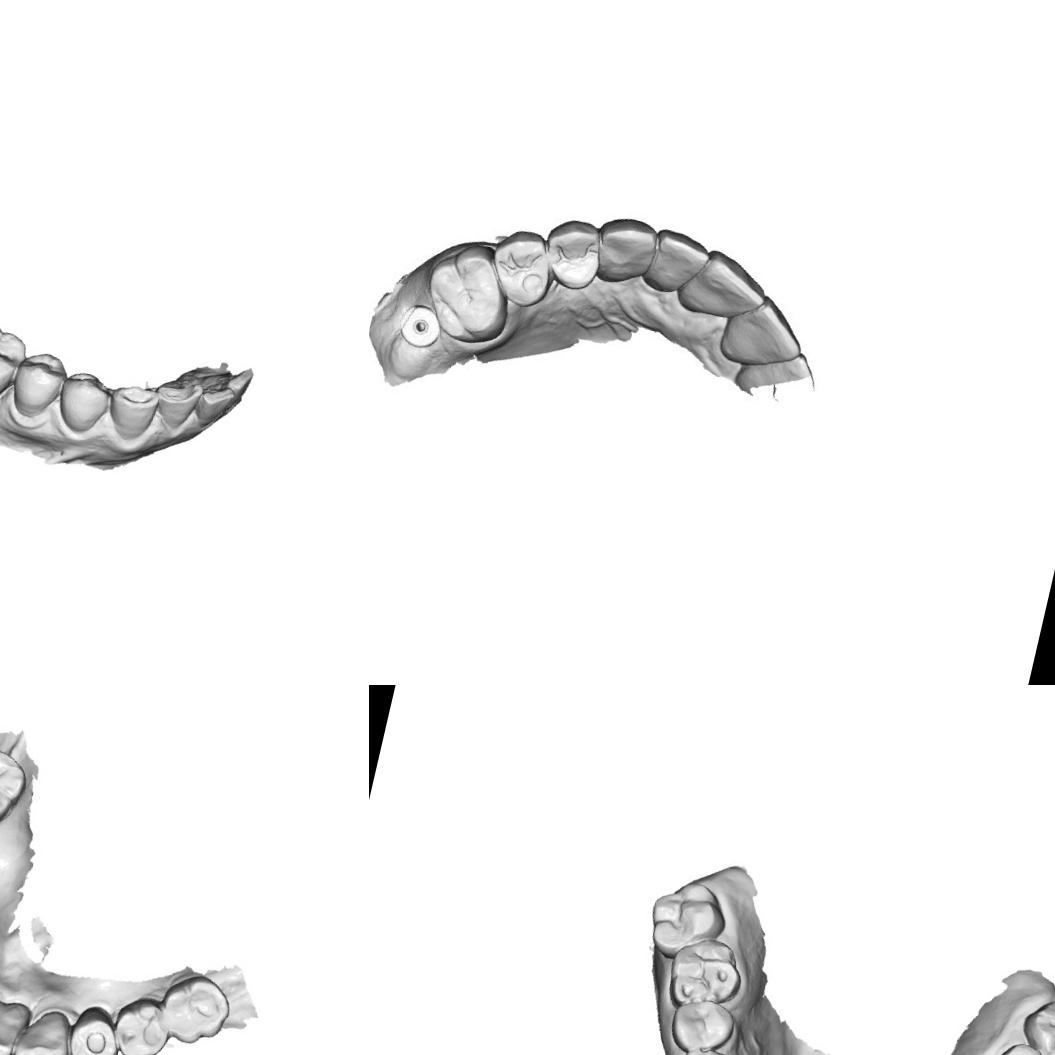canine: (592, 208, 662, 293), (101, 378, 163, 446), (8, 1001, 78, 1055)
implant: (395, 296, 450, 357)
incisor: (678, 244, 770, 341), (722, 290, 809, 378), (647, 229, 711, 305), (148, 374, 204, 435), (190, 380, 238, 436), (208, 359, 256, 401), (0, 999, 26, 1055)
molar: (419, 236, 516, 348), (640, 873, 735, 971), (661, 931, 750, 1022), (153, 967, 237, 1053), (0, 738, 35, 830), (0, 310, 32, 406), (1012, 991, 1055, 1055)
premolar: (5, 345, 71, 424), (664, 992, 739, 1055), (106, 989, 177, 1055), (494, 229, 554, 306), (52, 366, 115, 439), (543, 219, 602, 290), (61, 1001, 128, 1055), (673, 1041, 745, 1055)
